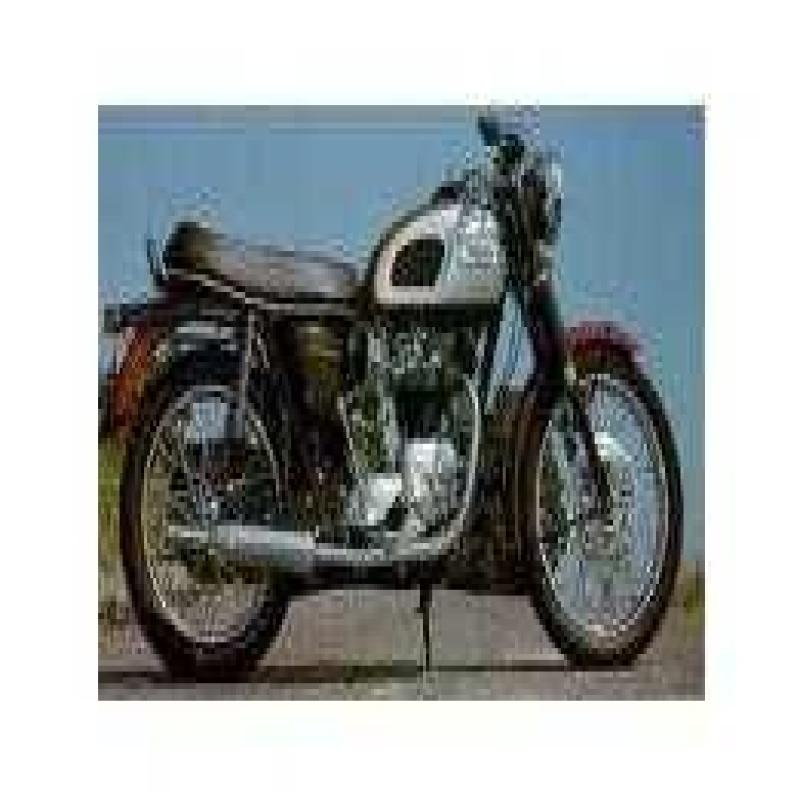bike: (113, 110, 698, 671)
